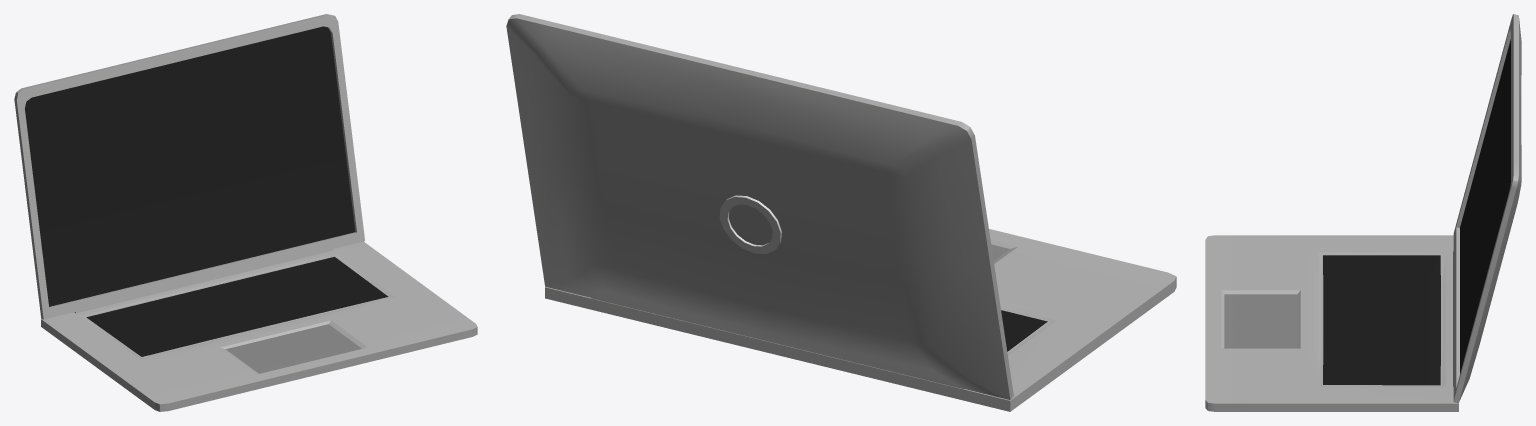
File: dodam_Prop_notebook.fbx
3 renders of one model, left to right at view 1: azimuth 30°, elevation 25°; view 2: azimuth 150°, elevation 25°; view 3: azimuth 270°, elevation 25°, orthographic. The views are drawn at different scales.
Visible parts, largest first — view 1: dodam_notebook; view 2: dodam_notebook; view 3: dodam_notebook.
Part boxes in pixels (<box>): dodam_notebook: <box>14,14,477,411</box>; dodam_notebook: <box>506,14,1176,411</box>; dodam_notebook: <box>1205,14,1521,411</box>.
Size of the model in its own units: 27.41 by 17.69 by 21.76.
1 material, 1 textured.
